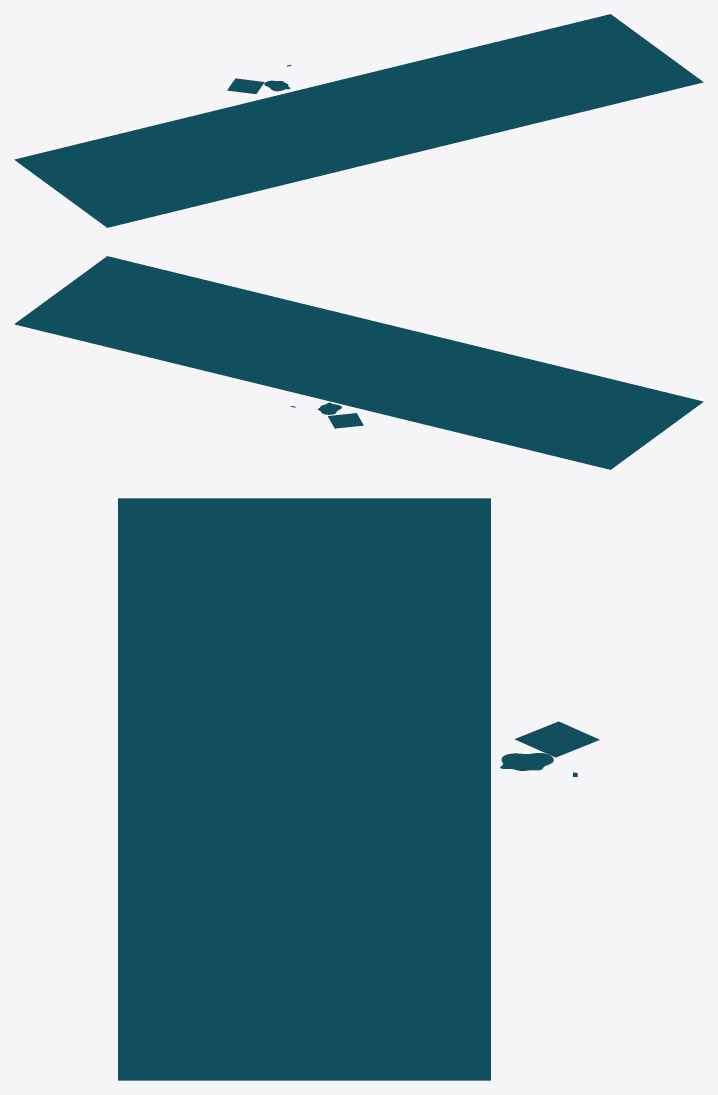
Rendered from SamsungBeach_Water_v6.glb.
3 renders of one model, top to bottom at view 1: azimuth 30°, elevation 25°; view 2: azimuth 150°, elevation 25°; view 3: azimuth 270°, elevation 25°, orthographic. The views are drawn at different scales.
Parts seen in each view (by area): view 1: mk_water; view 2: mk_water; view 3: mk_water.
Boxes of the visible parts, left/top/right/bottom form: mk_water: left=14, top=14, right=703, bottom=227; mk_water: left=14, top=256, right=703, bottom=469; mk_water: left=118, top=498, right=599, bottom=1080.
Bounding box in the file's own units: 1059 × 10.66 × 371.
